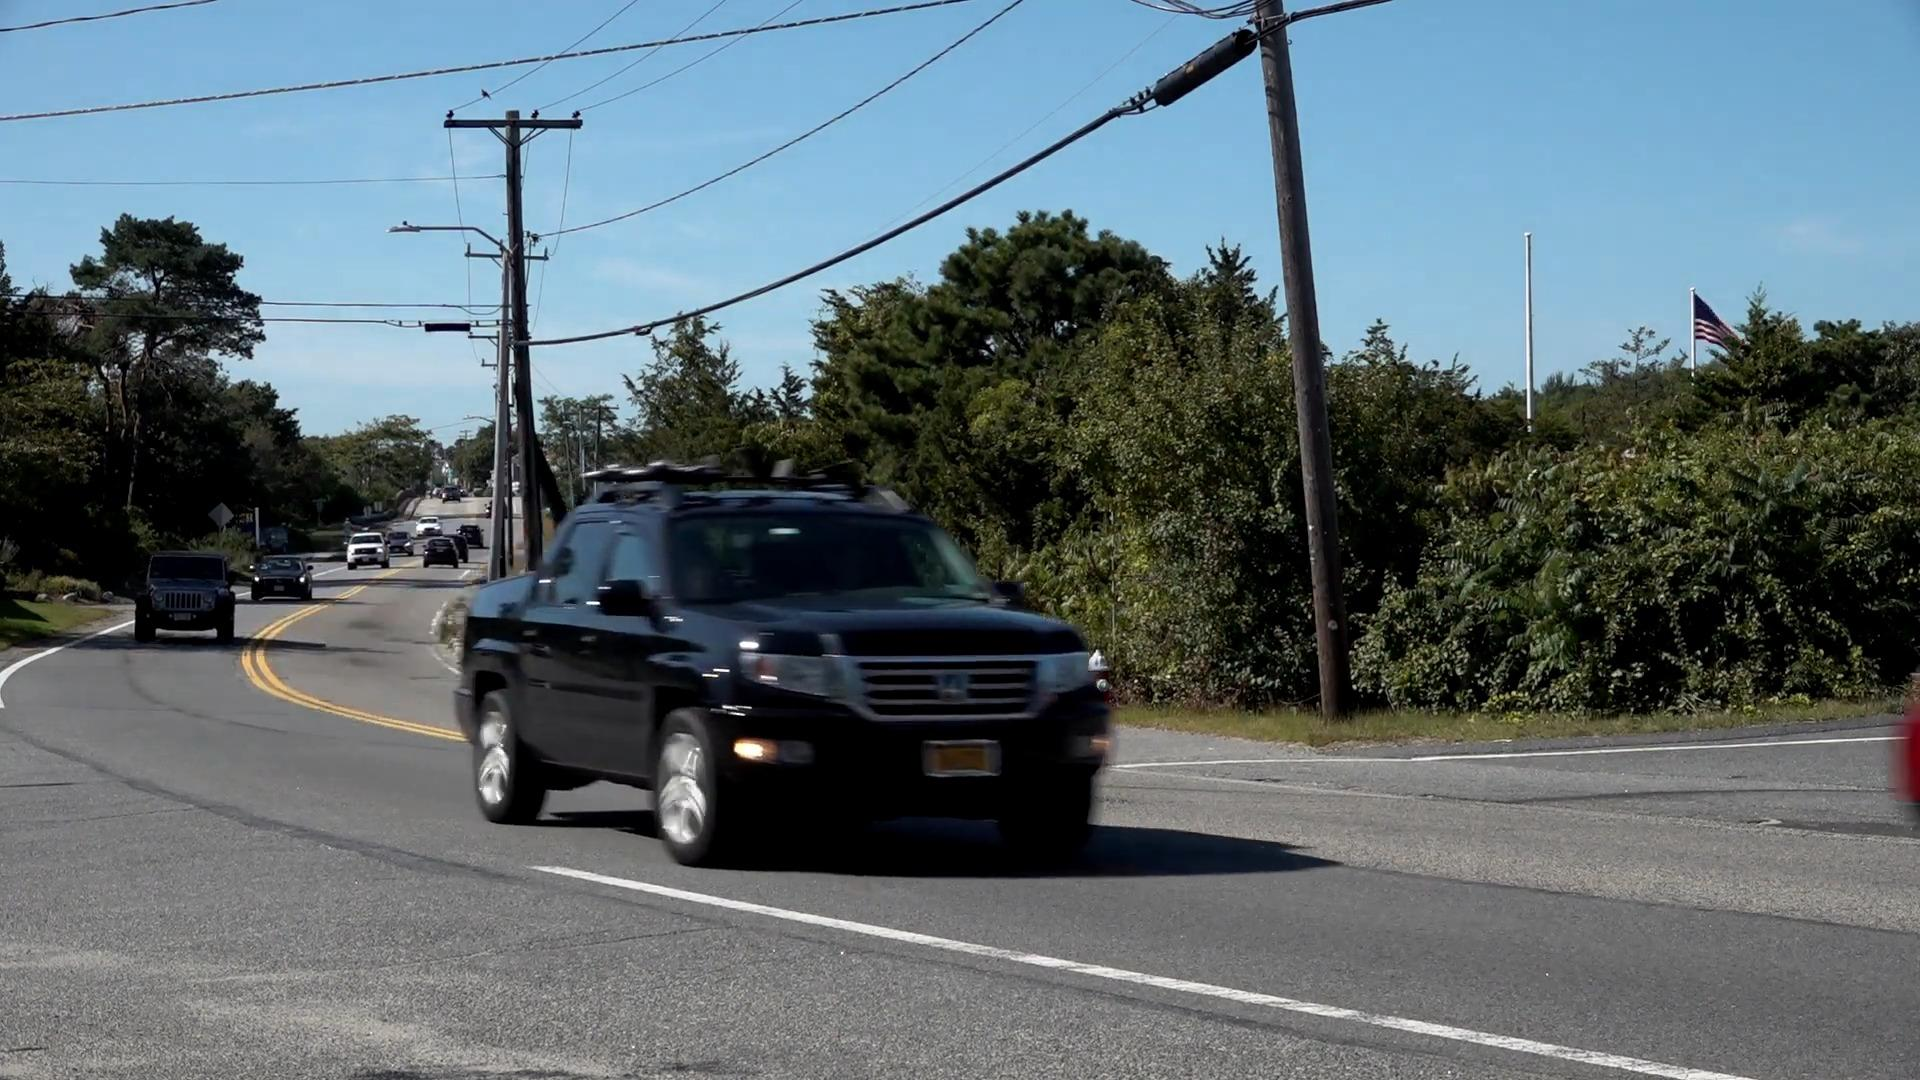sedans: (251, 555, 313, 600)
suv: (459, 479, 1113, 870), (137, 553, 237, 645)
